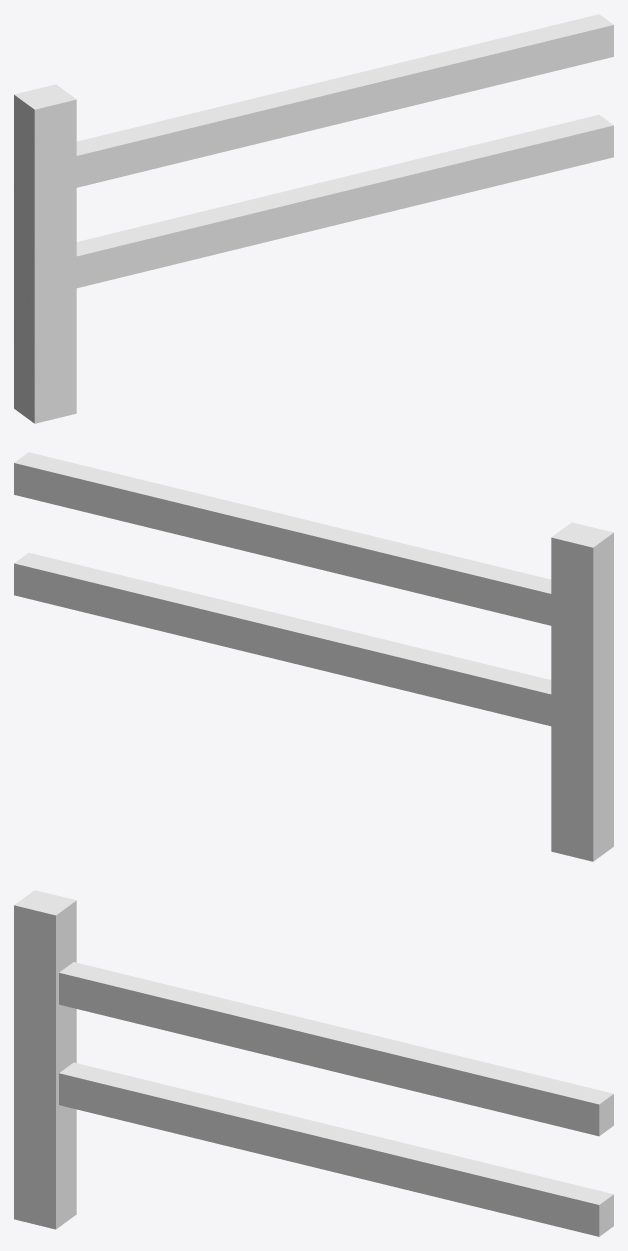
File: Fence.fbx
The picture shows the model from 3 angles, top to bottom: view 1: azimuth 30°, elevation 25°; view 2: azimuth 150°, elevation 25°; view 3: azimuth 330°, elevation 25°; orthographic projection.
Visible parts, largest first — view 1: Fence; view 2: Fence; view 3: Fence.
Boxes of the visible parts, x1,y1,x2,y2 form: Fence: (14,14,613,423); Fence: (14,452,613,861); Fence: (14,890,613,1236).
Size of the model in its own units: 1.94 by 1 by 0.12.
